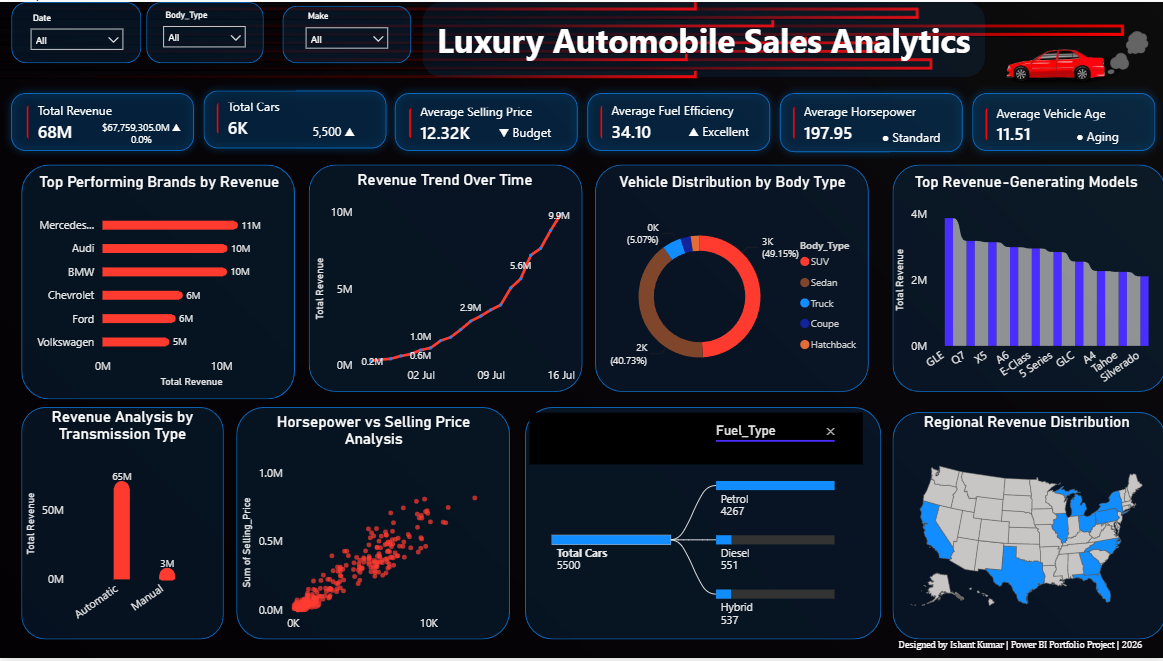

The page's visual inventory and layout, read from the dashboard file:
{"tool":"powerbi","page":{"name":"Page 1","canvas":[1280,720],"ordinal":0},"visuals":[{"type":"shape","box":[4.1,92.6,216.8,79.6],"z":0},{"type":"shape","box":[215.4,89.8,216.8,79.6],"z":1000},{"type":"shape","box":[425.4,92.6,216.8,79.6],"z":2000},{"type":"shape","box":[636.7,92.6,216.8,79.6],"z":3000},{"type":"shape","box":[848,92.6,216.8,81],"z":4000},{"type":"shape","box":[1059.4,92.6,217,79.6],"z":5000},{"type":"shape","box":[23.3,178.4,300.5,258],"z":6000},{"type":"shape","box":[338.9,178.4,300.5,249.7],"z":7000},{"type":"shape","box":[653.2,178.4,300.5,249.7],"z":8000},{"type":"shape","box":[979.8,178.4,300.5,249.7],"z":9000},{"type":"shape","box":[979.8,450.1,300.5,249.7],"z":10000},{"type":"shape","box":[576.3,444.6,391.1,255.2],"z":11000},{"type":"shape","box":[259.3,444.6,300.5,255.2],"z":12000},{"type":"shape","box":[23.3,444.6,222.3,255.2],"z":13000},{"type":"shape","box":[463.8,0,617.5,82.3],"z":14000},{"type":"shape","box":[160,0,129,67.2],"z":15000},{"type":"shape","box":[12.3,0,142.7,67.2],"z":16000},{"type":"shape","box":[309.6,4.1,141.3,63.1],"z":17000},{"type":"cardVisual","fields":{"Data":["measures table.Total Revenue"]},"box":[12.3,96.7,203.1,72.7],"z":18000},{"type":"cardVisual","fields":{"Data":["measures table.Total Cars"]},"box":[220.9,94,204.5,70],"z":19000},{"type":"cardVisual","fields":{"Data":["measures table.Average Selling Price"]},"box":[432.2,99.4,204.5,70],"z":20000},{"type":"cardVisual","fields":{"Data":["measures table.Average Horsepower"]},"box":[853.5,98.1,205.8,71.4],"z":21000},{"type":"cardVisual","fields":{"Data":["measures table.Average Fuel Efficiency"]},"box":[642.2,96.7,205.8,72.7],"z":22000},{"type":"cardVisual","fields":{"Data":["measures table.Average Vehicle Age"]},"box":[1064.8,99.4,199,71.4],"z":23000},{"type":"lineChart","title":"Revenue Trend Over Time","fields":{"Y":["measures table.Total Revenue"],"Category":["automobile_table.Date"]},"box":[340.3,185.2,296.4,242.9],"z":24000},{"type":"barChart","title":"Top Performing Brands by Revenue","fields":{"Y":["measures table.Total Revenue"],"Category":["automobile_table.Make"]},"box":[24.7,186.6,300.5,241.5],"z":25000},{"type":"donutChart","title":"Vehicle Distribution by Body Type","fields":{"Category":["automobile_table.Body_Type"],"Y":["measures table.Total Cars"]},"box":[653.2,186.6,301.9,241.5],"z":26000},{"type":"decompositionTreeVisual","fields":{"ExplainBy":["automobile_table.Fuel_Type"],"Analyze":["measures table.Total Cars"]},"box":[576.3,446,376,253.9],"z":27000},{"type":"clusteredColumnChart","title":"Revenue Analysis by Transmission Type","fields":{"Y":["measures table.Total Revenue"],"Category":["automobile_table.Transmission"]},"box":[23.3,444.6,222.3,255.2],"z":28000},{"type":"scatterChart","title":"Horsepower vs Selling Price Analysis","fields":{"Category":["automobile_table.Horsepower","automobile_table.Selling_Price"],"Y":["Sum(automobile_table.Selling_Price)"],"X":["Sum(automobile_table.Horsepower)"]},"box":[260.7,450.1,299.1,249.7],"z":29000},{"type":"ribbonChart","title":"Top Revenue-Generating Models","fields":{"Category":["automobile_table.Model"],"Y":["measures table.Total Revenue"]},"box":[977,186.6,299.1,253.9],"z":30000},{"type":"shapeMap","title":"Regional Revenue Distribution","fields":{"Category":["automobile_table.Location"],"Value":["measures table.Total Revenue"]},"box":[981.1,450.1,292.3,240.1],"z":31000},{"type":"slicer","fields":{"Values":["automobile_table.Body_Type"]},"box":[168.2,4.1,111.1,63.1],"z":32000},{"type":"slicer","fields":{"Values":["automobile_table.Make"]},"box":[324.7,5.5,111.1,61.7],"z":33000},{"type":"slicer","fields":{"Values":["automobile_table.Date"]},"box":[23.3,6.9,122.1,49.4],"z":34000},{"type":"shape","box":[100.2,124.9,109.8,38.4],"z":35000},{"type":"shape","box":[307.4,124.9,118,34.3],"z":36000},{"type":"shape","box":[517.3,126.2,118,34.3],"z":37000},{"type":"shape","box":[730,124.9,118,34.3],"z":38000},{"type":"shape","box":[941.3,131.7,118,34.3],"z":39000},{"type":"shape","box":[1145.8,130.4,118,34.3],"z":40000},{"type":"image","box":[1081.3,0,199,124.9],"z":41000},{"type":"textbox","box":[981.1,690.2,299.1,30.2],"z":42000}]}

Visuals, with their boxes in screenshot pixels (x1, y1, x2, y2), scaled from the page's 1280x720 canvas onto the 1163x661 screenshot:
shape: (left=4, top=85, right=201, bottom=158)
shape: (left=196, top=82, right=393, bottom=156)
shape: (left=387, top=85, right=583, bottom=158)
shape: (left=579, top=85, right=775, bottom=158)
shape: (left=770, top=85, right=967, bottom=159)
shape: (left=963, top=85, right=1160, bottom=158)
shape: (left=21, top=164, right=294, bottom=401)
shape: (left=308, top=164, right=581, bottom=393)
shape: (left=593, top=164, right=867, bottom=393)
shape: (left=890, top=164, right=1162, bottom=393)
shape: (left=890, top=413, right=1162, bottom=642)
shape: (left=524, top=408, right=879, bottom=642)
shape: (left=236, top=408, right=509, bottom=642)
shape: (left=21, top=408, right=223, bottom=642)
shape: (left=421, top=0, right=982, bottom=76)
shape: (left=145, top=0, right=263, bottom=62)
shape: (left=11, top=0, right=141, bottom=62)
shape: (left=281, top=4, right=410, bottom=62)
cardVisual - measures table.Total Revenue: (left=11, top=89, right=196, bottom=156)
cardVisual - measures table.Total Cars: (left=201, top=86, right=387, bottom=151)
cardVisual - measures table.Average Selling Price: (left=393, top=91, right=579, bottom=156)
cardVisual - measures table.Average Horsepower: (left=775, top=90, right=962, bottom=156)
cardVisual - measures table.Average Fuel Efficiency: (left=583, top=89, right=770, bottom=156)
cardVisual - measures table.Average Vehicle Age: (left=967, top=91, right=1148, bottom=157)
"Revenue Trend Over Time" lineChart: (left=309, top=170, right=579, bottom=393)
"Top Performing Brands by Revenue" barChart: (left=22, top=171, right=295, bottom=393)
"Vehicle Distribution by Body Type" donutChart: (left=593, top=171, right=868, bottom=393)
decompositionTreeVisual - automobile_table.Fuel_Type x measures table.Total Cars: (left=524, top=409, right=865, bottom=643)
"Revenue Analysis by Transmission Type" clusteredColumnChart: (left=21, top=408, right=223, bottom=642)
"Horsepower vs Selling Price Analysis" scatterChart: (left=237, top=413, right=509, bottom=642)
"Top Revenue-Generating Models" ribbonChart: (left=888, top=171, right=1159, bottom=404)
"Regional Revenue Distribution" shapeMap: (left=891, top=413, right=1157, bottom=634)
slicer - automobile_table.Body_Type: (left=153, top=4, right=254, bottom=62)
slicer - automobile_table.Make: (left=295, top=5, right=396, bottom=62)
slicer - automobile_table.Date: (left=21, top=6, right=132, bottom=52)
shape: (left=91, top=115, right=191, bottom=150)
shape: (left=279, top=115, right=387, bottom=146)
shape: (left=470, top=116, right=577, bottom=147)
shape: (left=663, top=115, right=770, bottom=146)
shape: (left=855, top=121, right=962, bottom=152)
shape: (left=1041, top=120, right=1148, bottom=151)
image: (left=982, top=0, right=1162, bottom=115)
textbox: (left=891, top=634, right=1162, bottom=660)
